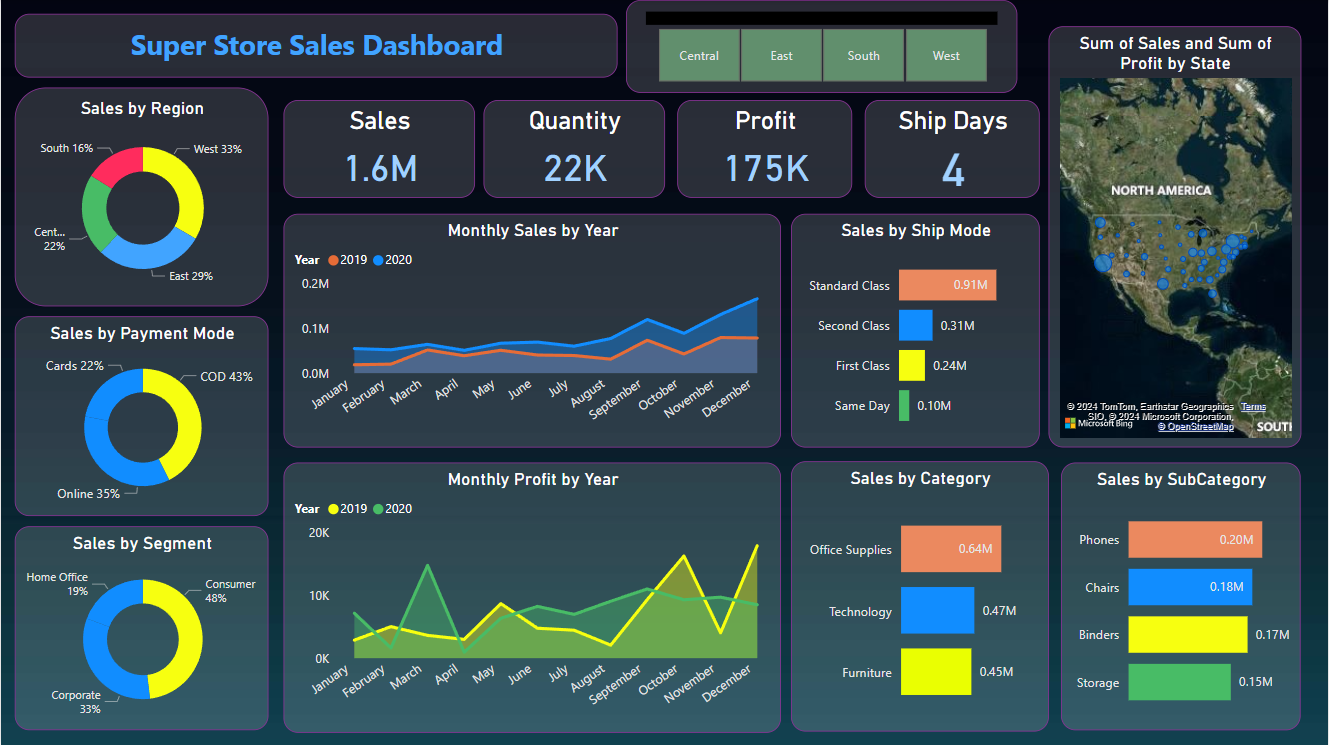

This screenshot's page, from the dashboard's own definition file:
{"tool":"powerbi","page":{"name":"Dashboard","canvas":[1280,720],"ordinal":0},"visuals":[{"type":"clusteredBarChart","title":"Sales by Category","fields":{"Category":["SuperStore_Sales_Dataset.Category"],"Y":["Sum(SuperStore_Sales_Dataset.Sales)"]},"box":[762.2,445,248.4,260.5],"z":0},{"type":"clusteredBarChart","title":"Sales by SubCategory","fields":{"Y":["Sum(SuperStore_Sales_Dataset.Sales)"],"Category":["SuperStore_Sales_Dataset.Sub-Category"]},"box":[1022.7,446.2,231.6,258.1],"z":1000},{"type":"clusteredBarChart","title":"Sales by Ship Mode","fields":{"Category":["SuperStore_Sales_Dataset.Ship Mode"],"Y":["Sum(SuperStore_Sales_Dataset.Sales)"]},"box":[762.2,206.2,240,225.5],"z":2000},{"type":"areaChart","title":"Monthly Sales by  Year ","fields":{"Y":["Sum(SuperStore_Sales_Dataset.Sales)"],"Series":["SuperStore_Sales_Dataset.Order Date.Variation.Date Hierarchy.Year"],"Category":["SuperStore_Sales_Dataset.Order Date.Variation.Date Hierarchy.Month"]},"box":[272.6,206.2,480,225.5],"z":3000},{"type":"areaChart","title":"Monthly Profit by Year","fields":{"Series":["SuperStore_Sales_Dataset.Order Date.Variation.Date Hierarchy.Year"],"Category":["SuperStore_Sales_Dataset.Order Date.Variation.Date Hierarchy.Month"],"Y":["Sum(SuperStore_Sales_Dataset.Profit)"]},"box":[272.6,446.2,480,260.5],"z":4000},{"type":"map","fields":{"Category":["SuperStore_Sales_Dataset.State"],"Size":["Sum(SuperStore_Sales_Dataset.Sales)"]},"box":[1010.7,25.3,243.6,406.4],"z":5000},{"type":"donutChart","title":"Sales by Region","fields":{"Y":["Sum(SuperStore_Sales_Dataset.Sales)"],"Category":["SuperStore_Sales_Dataset.Region"]},"box":[13.3,84.4,244.8,211.1],"z":6000},{"type":"donutChart","title":"Sales by Payment Mode","fields":{"Y":["Sum(SuperStore_Sales_Dataset.Sales)"],"Category":["SuperStore_Sales_Dataset.Payment Mode"]},"box":[13.3,305.1,244.8,193],"z":7000},{"type":"donutChart","title":"Sales by Segment","fields":{"Category":["SuperStore_Sales_Dataset.Segment"],"Y":["Sum(SuperStore_Sales_Dataset.Sales)"]},"box":[13.3,507.7,244.8,196.6],"z":8000},{"type":"slicer","fields":{"Values":["SuperStore_Sales_Dataset.Region"]},"box":[603,0,377.5,89.2],"z":9000},{"type":"textbox","box":[13.3,13.3,581.3,61.5],"z":10000},{"type":"card","title":"Sales","fields":{"Values":["Sum(SuperStore_Sales_Dataset.Sales)"]},"box":[272.6,96.5,184.5,94.1],"z":11000},{"type":"card","title":"Ship Days","fields":{"Values":["Avg(SuperStore_Sales_Dataset.AvgDelivery)"]},"box":[833.4,96.5,168.8,94.1],"z":12000},{"type":"card","title":"Quantity","fields":{"Values":["Sum(SuperStore_Sales_Dataset.Quantity)"]},"box":[465.5,96.5,174.9,94.1],"z":13000},{"type":"card","title":"Profit","fields":{"Values":["Sum(SuperStore_Sales_Dataset.Profit)"]},"box":[652.5,96.5,168.8,94.1],"z":14000}]}

Visuals, with their boxes in screenshot pixels (x1, y1, x2, y2), scaled from the page's 1280x720 canvas onto the 1329x745 screenshot:
"Sales by Category" clusteredBarChart: box(791, 460, 1049, 730)
"Sales by SubCategory" clusteredBarChart: box(1062, 462, 1302, 729)
"Sales by Ship Mode" clusteredBarChart: box(791, 213, 1041, 447)
"Monthly Sales by  Year " areaChart: box(283, 213, 781, 447)
"Monthly Profit by Year" areaChart: box(283, 462, 781, 731)
map - SuperStore_Sales_Dataset.State x Sum(SuperStore_Sales_Dataset.Sales): box(1049, 26, 1302, 447)
"Sales by Region" donutChart: box(14, 87, 268, 306)
"Sales by Payment Mode" donutChart: box(14, 316, 268, 515)
"Sales by Segment" donutChart: box(14, 525, 268, 729)
slicer - SuperStore_Sales_Dataset.Region: box(626, 0, 1018, 92)
textbox: box(14, 14, 617, 77)
"Sales" card: box(283, 100, 475, 197)
"Ship Days" card: box(865, 100, 1041, 197)
"Quantity" card: box(483, 100, 665, 197)
"Profit" card: box(677, 100, 853, 197)
